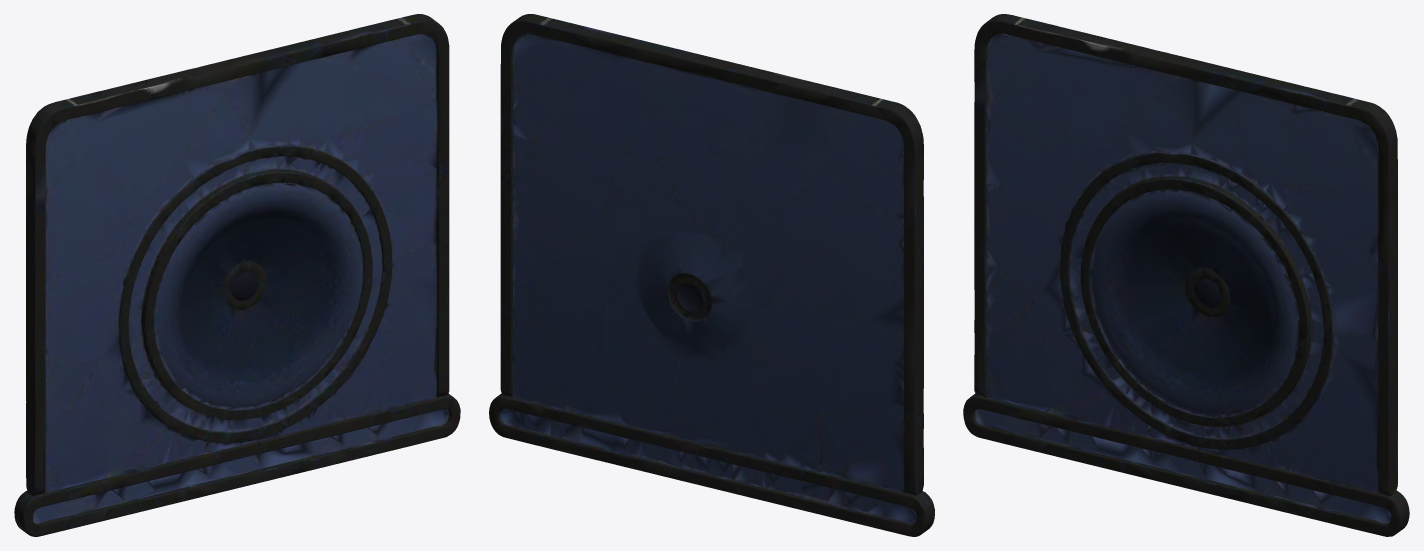
The picture shows the model from 3 angles, left to right: view 1: azimuth 30°, elevation 25°; view 2: azimuth 150°, elevation 25°; view 3: azimuth 330°, elevation 25°; orthographic projection.
Bounding box in the file's own units: 1.9 × 1.76 × 0.1243.
1 material, 1 textured.
